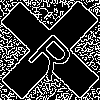R: (25, 25, 83, 83)
